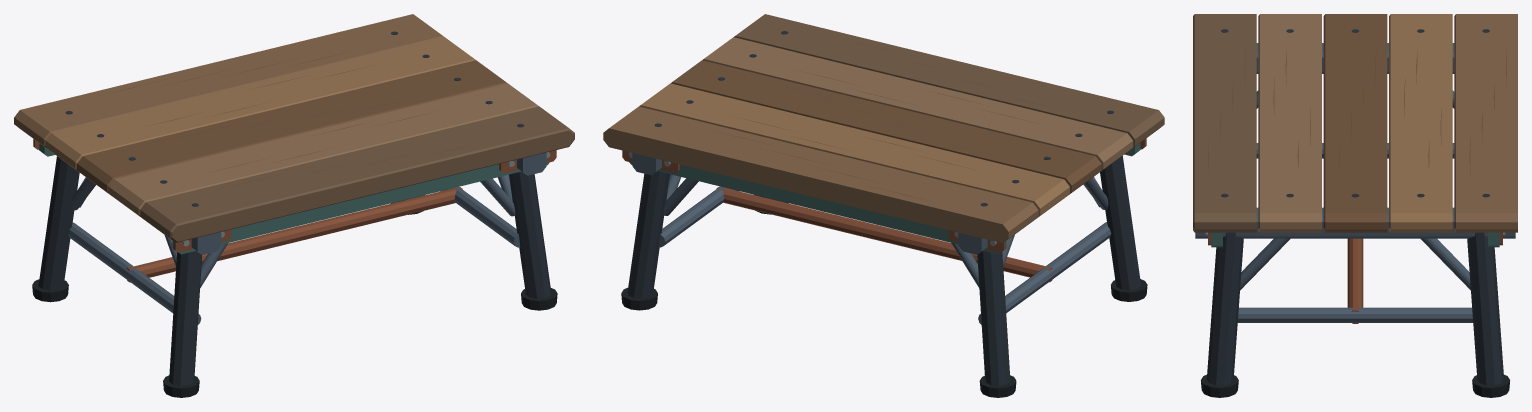
The model's file is A-03_low_table.glb.
The picture shows the model from 3 angles, left to right: view 1: azimuth 30°, elevation 25°; view 2: azimuth 150°, elevation 25°; view 3: azimuth 270°, elevation 25°; orthographic projection. The views are drawn at different scales.
Visible parts, largest first — view 1: A-03_low_table; view 2: A-03_low_table; view 3: A-03_low_table.
Boxes of the visible parts, x1,y1,x2,y2 form: A-03_low_table: (14, 14, 574, 397); A-03_low_table: (603, 14, 1164, 397); A-03_low_table: (1193, 14, 1517, 397).
Size of the model in its own units: 1.12 by 0.476 by 0.751.
